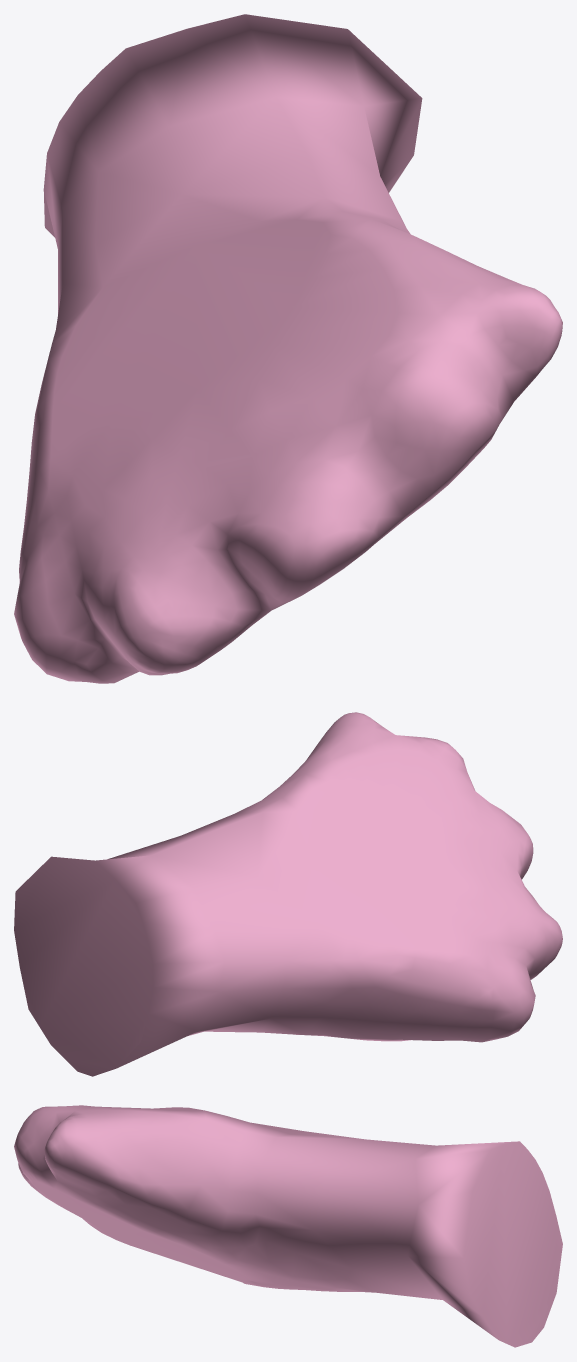
The model's file is right_hand.fbx.
3 renders of one model, top to bottom at view 1: azimuth 30°, elevation 25°; view 2: azimuth 150°, elevation 25°; view 3: azimuth 270°, elevation 25°, orthographic. The views are drawn at different scales.
Visible parts, largest first — view 1: right_hand; view 2: right_hand; view 3: right_hand.
Part boxes in pixels (x1,y1,x2,y2): right_hand: (14,14,562,683); right_hand: (14,712,562,1076); right_hand: (14,1105,562,1347).
Bounding box in the file's own units: 12.11 × 7.1 × 15.41.
